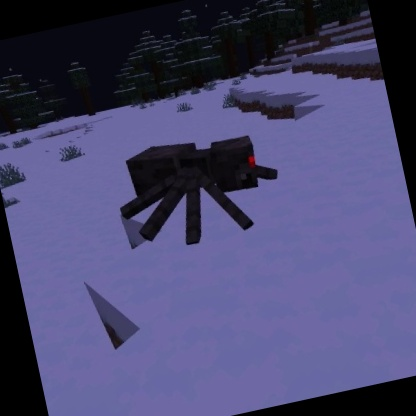spider: (104, 116, 294, 263)
